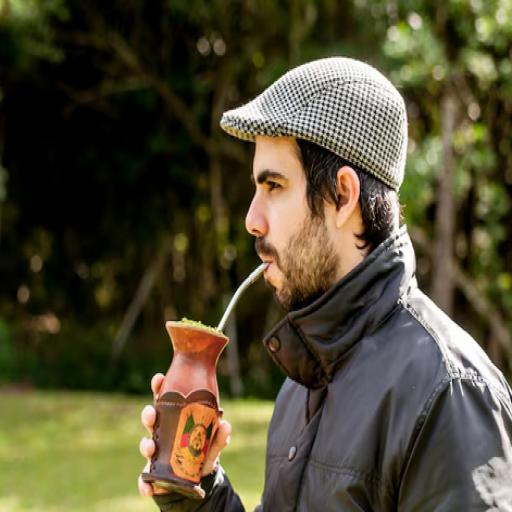mate: (142, 265, 265, 498)
